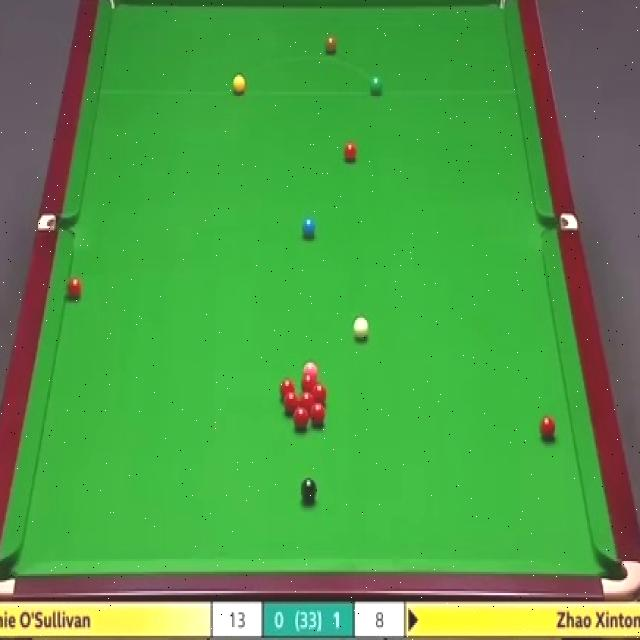black-ball: (300, 476, 318, 506)
blue-ball: (301, 216, 316, 240)
brown-ball: (323, 36, 338, 58)
green-ball: (368, 76, 385, 98)
pink-ball: (302, 362, 319, 376)
red-ball: (309, 404, 326, 430), (342, 142, 360, 165), (539, 417, 556, 440), (312, 384, 328, 408), (65, 279, 82, 301), (278, 378, 296, 397), (294, 407, 308, 430), (301, 390, 317, 410), (284, 392, 298, 413), (302, 373, 318, 391)
white-ball: (352, 316, 371, 343)
yellow-ball: (232, 74, 246, 96)
